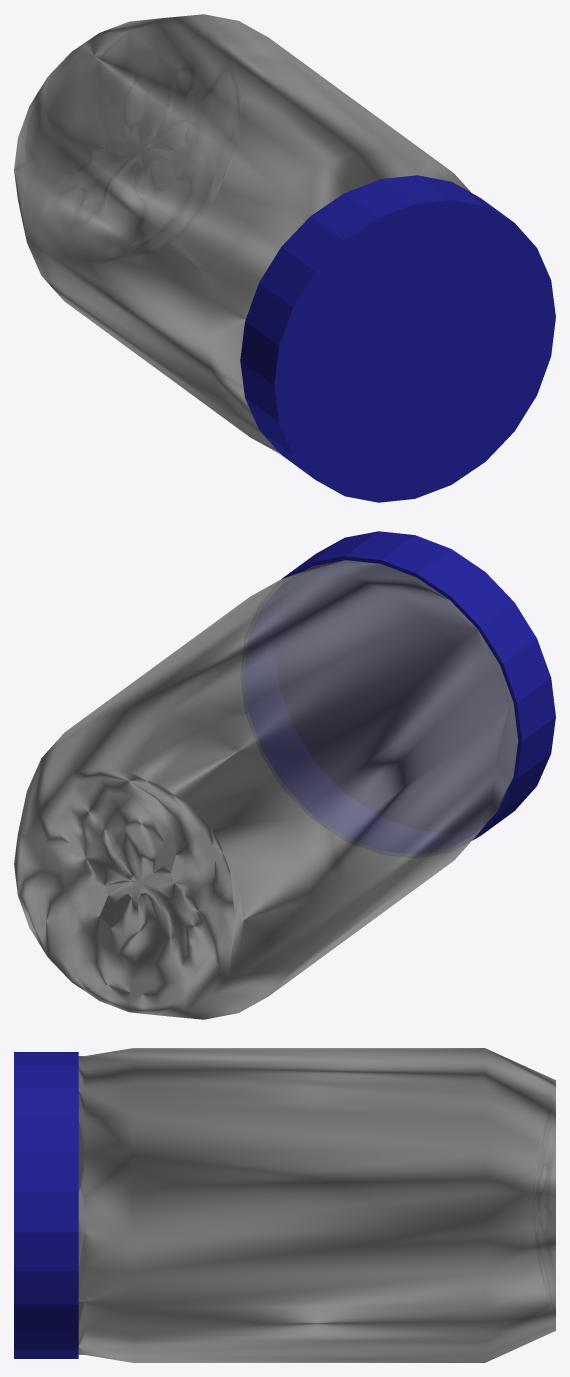
File: model_align.obj
3 views of the same model, one above another, from view 1: azimuth 30°, elevation 25°; view 2: azimuth 150°, elevation 25°; view 3: azimuth 270°, elevation 25° (orthographic). The views are drawn at different scales.
Bounding box in the file's own units: 0.1333 × 0.1333 × 0.2285.
